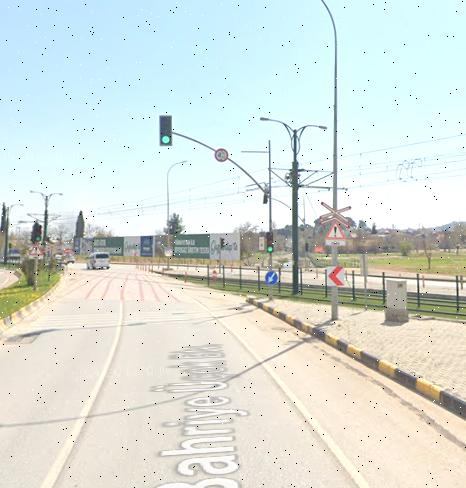greenlight: (159, 115, 172, 146), (266, 232, 275, 253), (35, 223, 41, 242)
